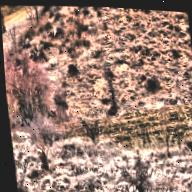boar: (65, 58, 86, 78), (41, 106, 59, 125)
